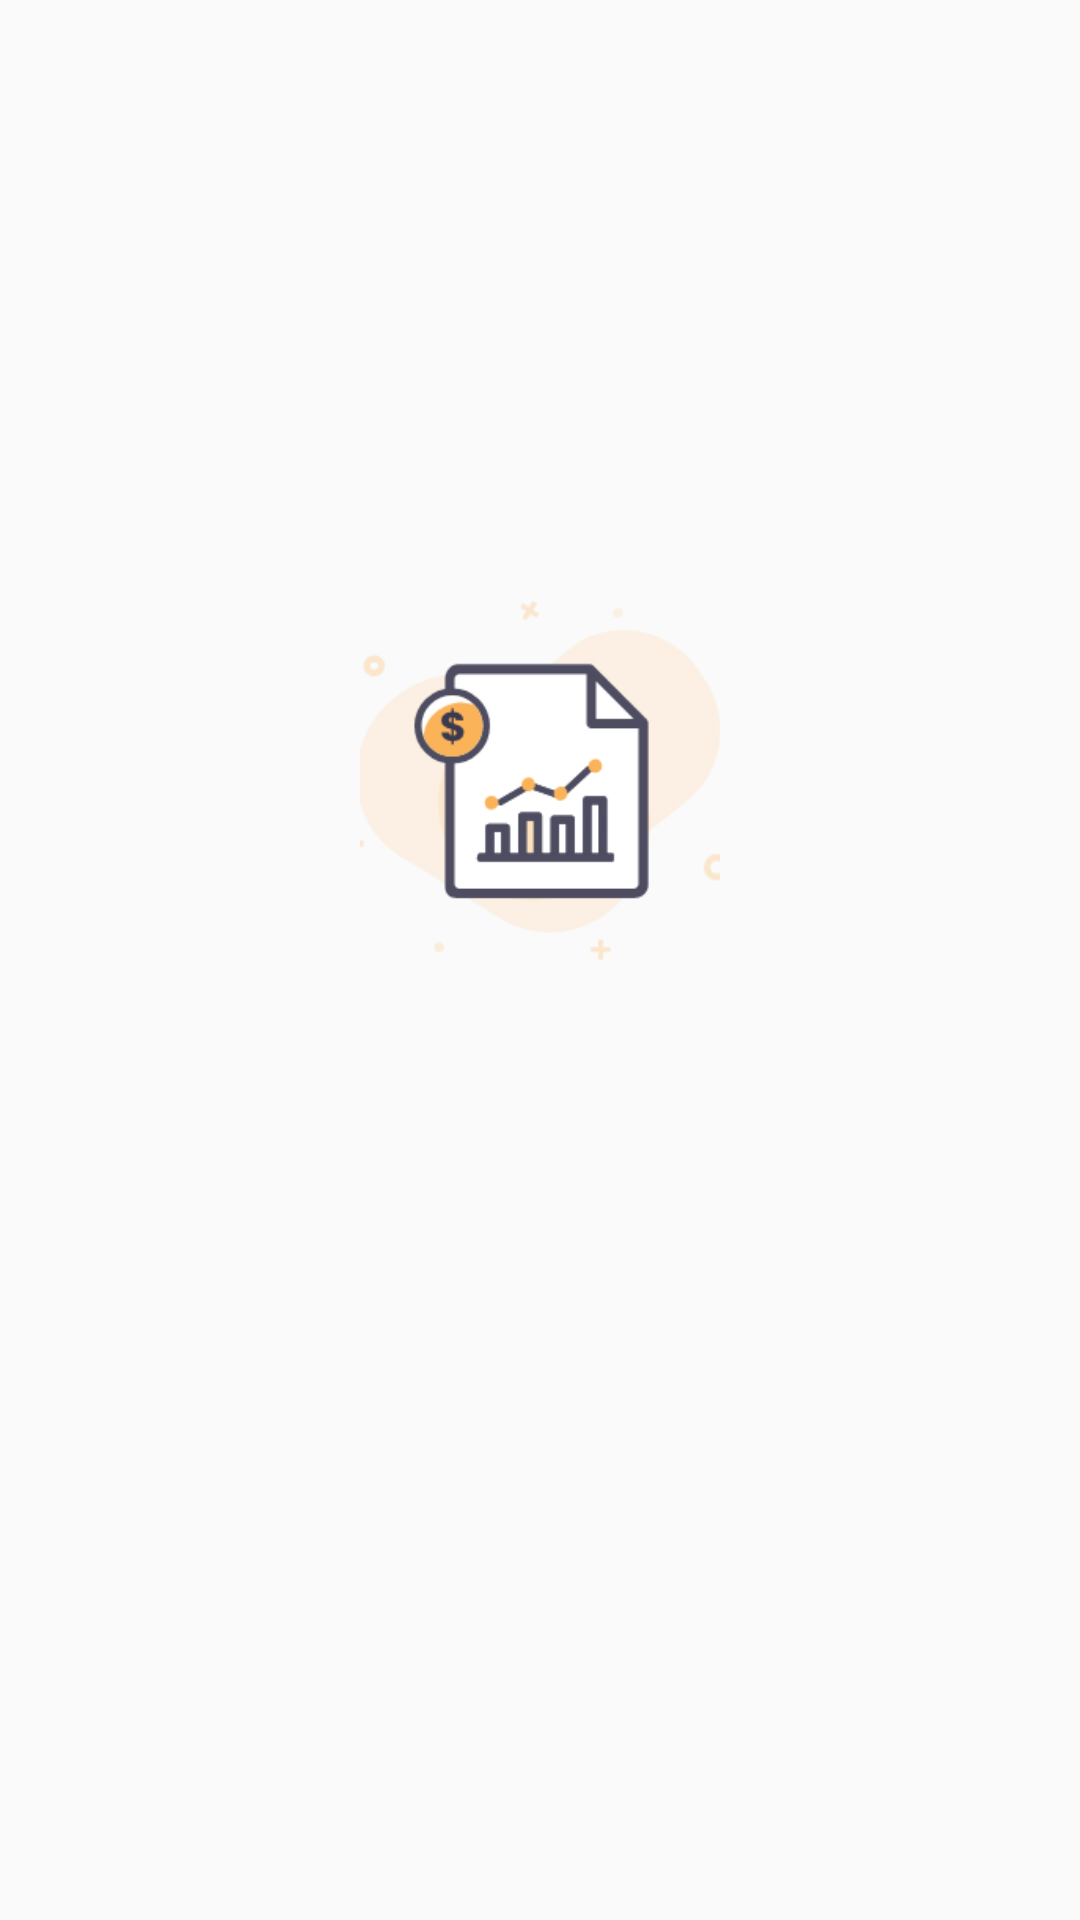

Screen size 1080w x 1920h. Icon name, then its box in pixels as box=[x1, y1, x2, y2]:
track expenses: box=[360, 601, 720, 959]
